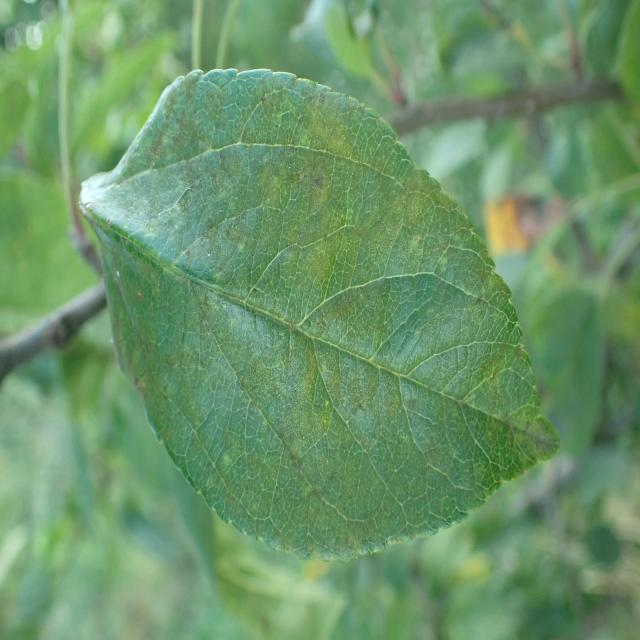scab: (112, 79, 556, 534)
